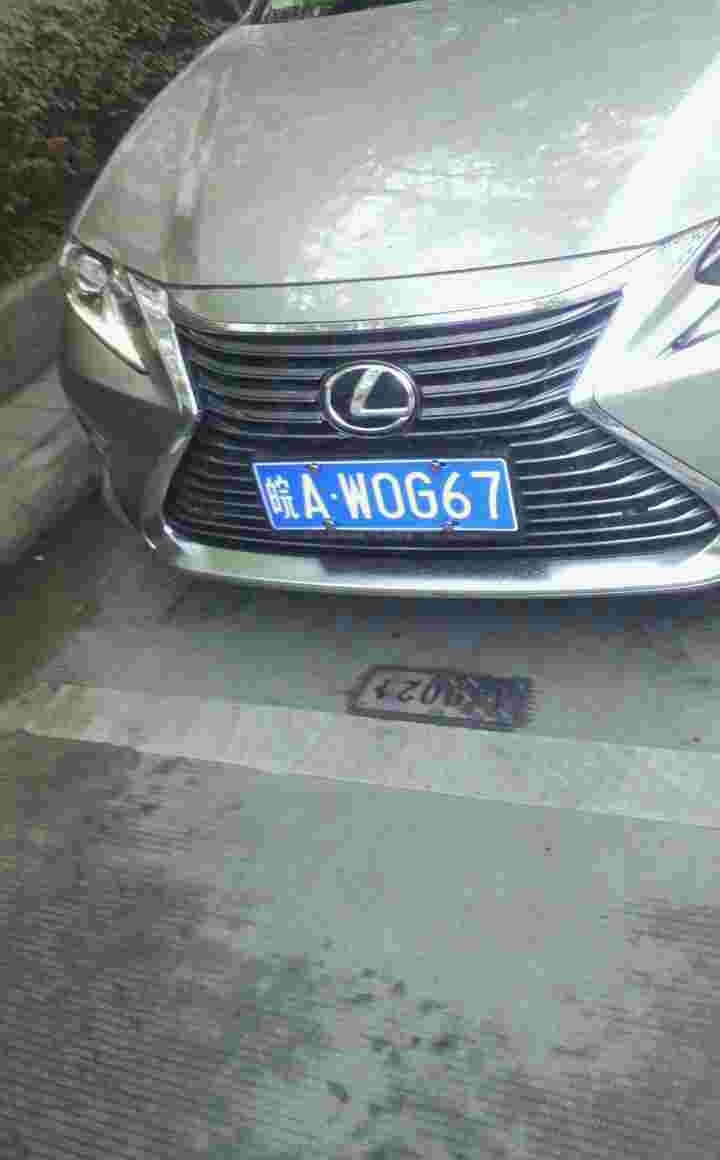license_plate: (252, 460, 528, 533)
